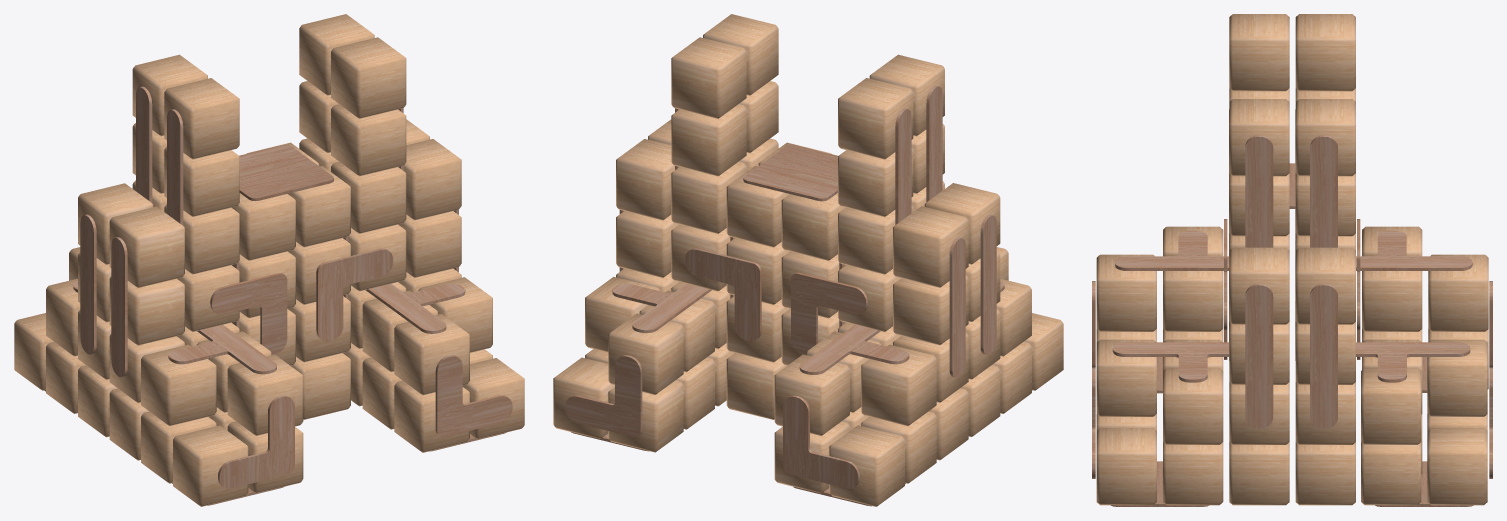
The model's file is level_114.fbx.
3 renders of one model, left to right at view 1: azimuth 30°, elevation 25°; view 2: azimuth 150°, elevation 25°; view 3: azimuth 270°, elevation 25°, orthographic. The views are drawn at different scales.
Visible parts, largest first — view 1: Cube.102, Cube.085, Cube.136, Cube.119, Cube.096, Cube.080, Cube.127, Cube.084, Cube.067, obj_obs_square.008, obj_obs_L.018, obj_obs_L.001 (+46 smaller); view 2: Cube.103, Cube.077, Cube.120, Cube.135, Cube.097, Cube.075, Cube.128, Cube.069, Cube.079, obj_obs_square.008, obj_obs_L.003, obj_obs_L.021 (+47 smaller); view 3: Cube.120, Cube.064, Cube.070, Cube.119, Cube.063, Cube.073, Cube.084, Cube.069, Cube.067, Cube.079, obj_obs_Y.010, obj_obs_Y.011 (+38 smaller).
Part boxes in pixels (x1,y1,x2,y2): Cube.102: (331, 37, 406, 118); Cube.085: (141, 344, 216, 426); Cube.136: (109, 206, 184, 287); Cube.119: (164, 78, 239, 159); Cube.096: (331, 104, 406, 176); Cube.080: (173, 425, 248, 506); Cube.127: (403, 139, 461, 220); Cube.084: (227, 354, 303, 435); Cube.067: (394, 313, 469, 395); obj_obs_square.008: (239, 144, 333, 201); obj_obs_L.018: (316, 248, 393, 341); obj_obs_L.001: (435, 355, 512, 437); Cube.103: (671, 37, 746, 118); Cube.077: (861, 344, 936, 425); Cube.120: (838, 78, 913, 159); Cube.135: (893, 206, 968, 287); Cube.097: (671, 104, 746, 176); Cube.075: (829, 425, 904, 506); Cube.128: (616, 139, 674, 220); Cube.069: (608, 313, 683, 394); Cube.079: (774, 354, 849, 435); obj_obs_square.008: (743, 145, 837, 201); obj_obs_L.003: (565, 355, 642, 436); obj_obs_L.021: (684, 248, 761, 341); Cube.120: (1295, 14, 1355, 91); Cube.064: (1096, 428, 1156, 505); Cube.070: (1427, 428, 1487, 505); Cube.119: (1229, 14, 1289, 91); Cube.063: (1163, 367, 1223, 444); Cube.073: (1361, 367, 1421, 444); Cube.084: (1096, 254, 1156, 331); Cube.069: (1427, 339, 1487, 416); Cube.067: (1096, 339, 1156, 416); Cube.079: (1428, 254, 1488, 331); obj_obs_Y.010: (1245, 284, 1273, 428); obj_obs_Y.011: (1310, 284, 1337, 428).
Size of the model in its own units: 13.35 by 13.19 by 13.29.
